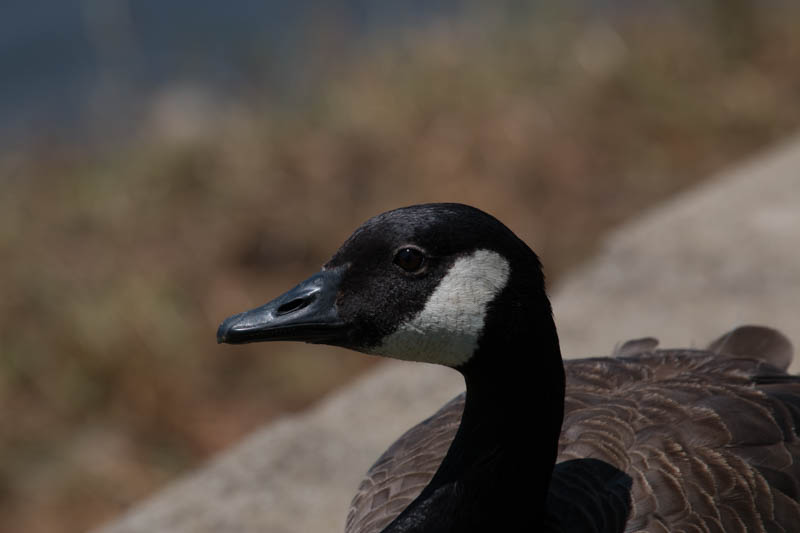goose-head: (215, 202, 546, 373)
